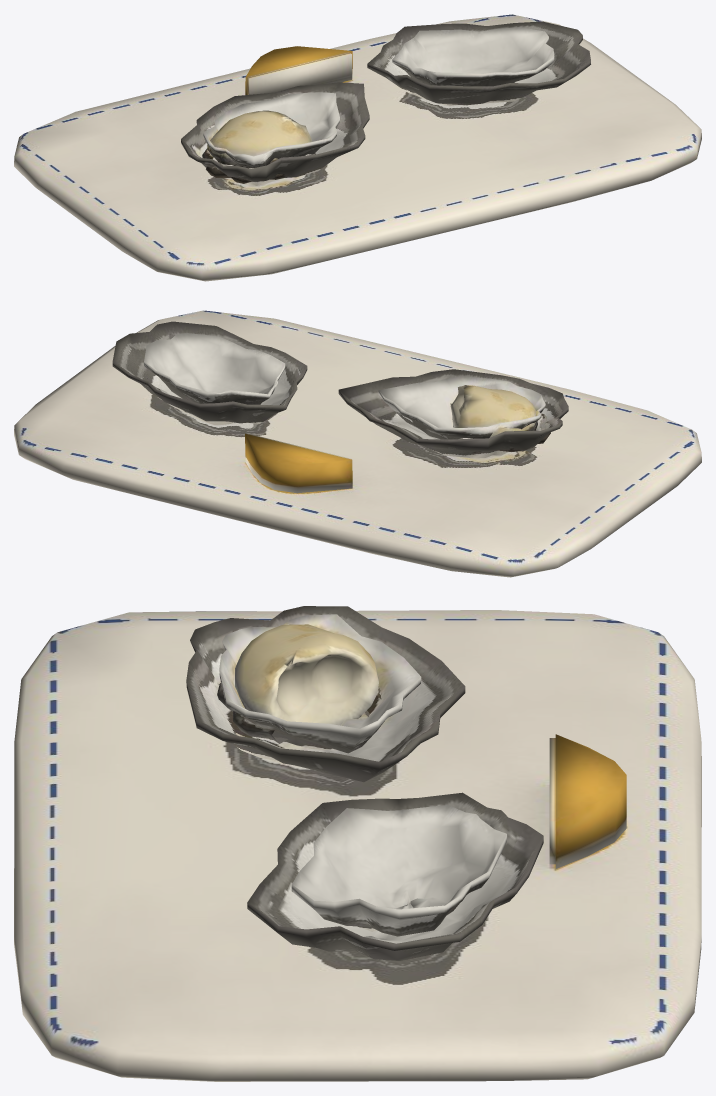
Rendered from kaki_b2.glb.
3 views of the same model, one above another, from view 1: azimuth 30°, elevation 25°; view 2: azimuth 150°, elevation 25°; view 3: azimuth 270°, elevation 25° (orthographic). The views are drawn at different scales.
Parts seen in each view (by area): view 1: prop_kaki_b2_felt; view 2: prop_kaki_b2_felt; view 3: prop_kaki_b2_felt.
Part boxes in pixels (x1=…): prop_kaki_b2_felt: x1=14, y1=14, x2=701, y2=281; prop_kaki_b2_felt: x1=14, y1=310, x2=701, y2=577; prop_kaki_b2_felt: x1=14, y1=606, x2=701, y2=1081.
Bounding box in the file's own units: 0.3751 × 0.0521 × 0.2401.
Materials: 1 (1 with a texture image).
